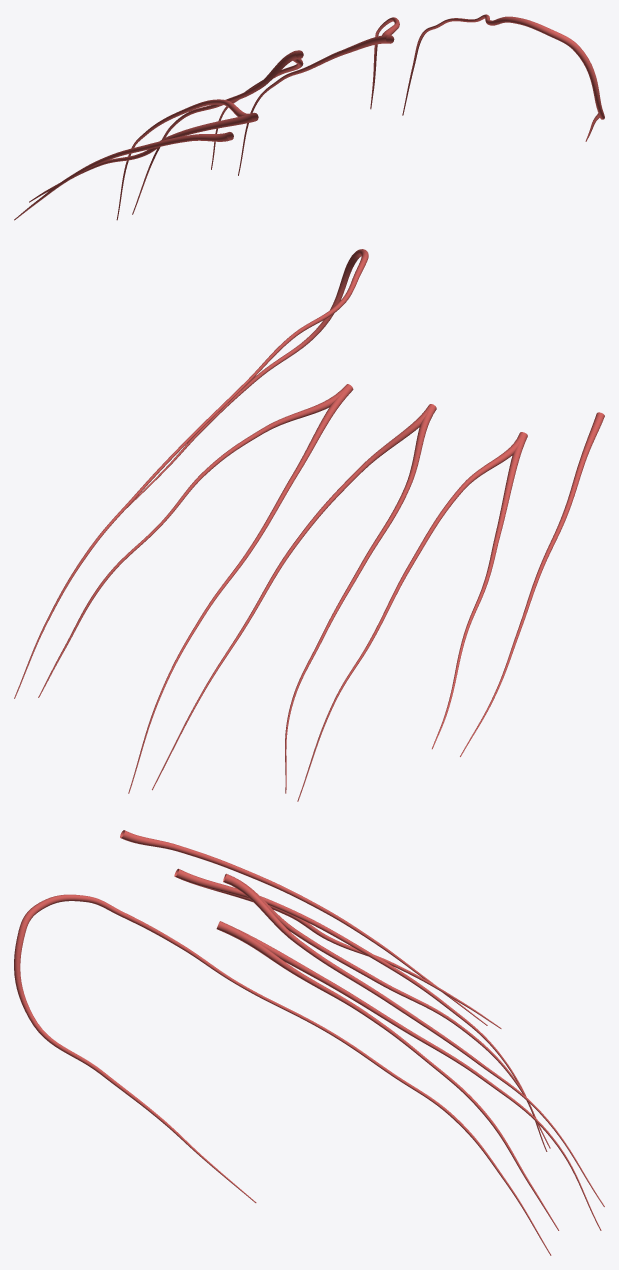
3 renders of one model, top to bottom at view 1: azimuth 30°, elevation 25°; view 2: azimuth 150°, elevation 25°; view 3: azimuth 270°, elevation 25°, orthographic. The views are drawn at different scales.
Parts seen in each view (by area): view 1: 左侧指背动脉; view 2: 左侧指背动脉; view 3: 左侧指背动脉.
Boxes of the visible parts, x1=… form: 左侧指背动脉: x1=14, y1=14, x2=604, y2=220; 左侧指背动脉: x1=14, y1=249, x2=604, y2=801; 左侧指背动脉: x1=14, y1=830, x2=604, y2=1255.
Size of the model in its own units: 0.1516 by 0.1066 by 0.1636.
